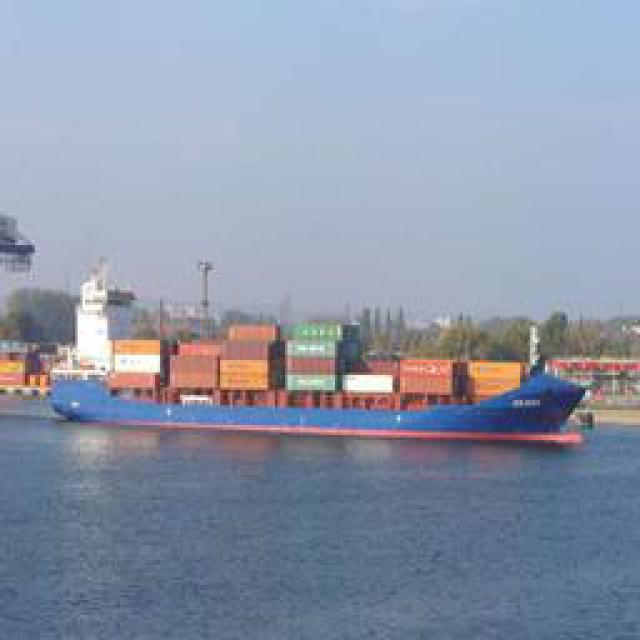Ship: (56, 359, 581, 434)
